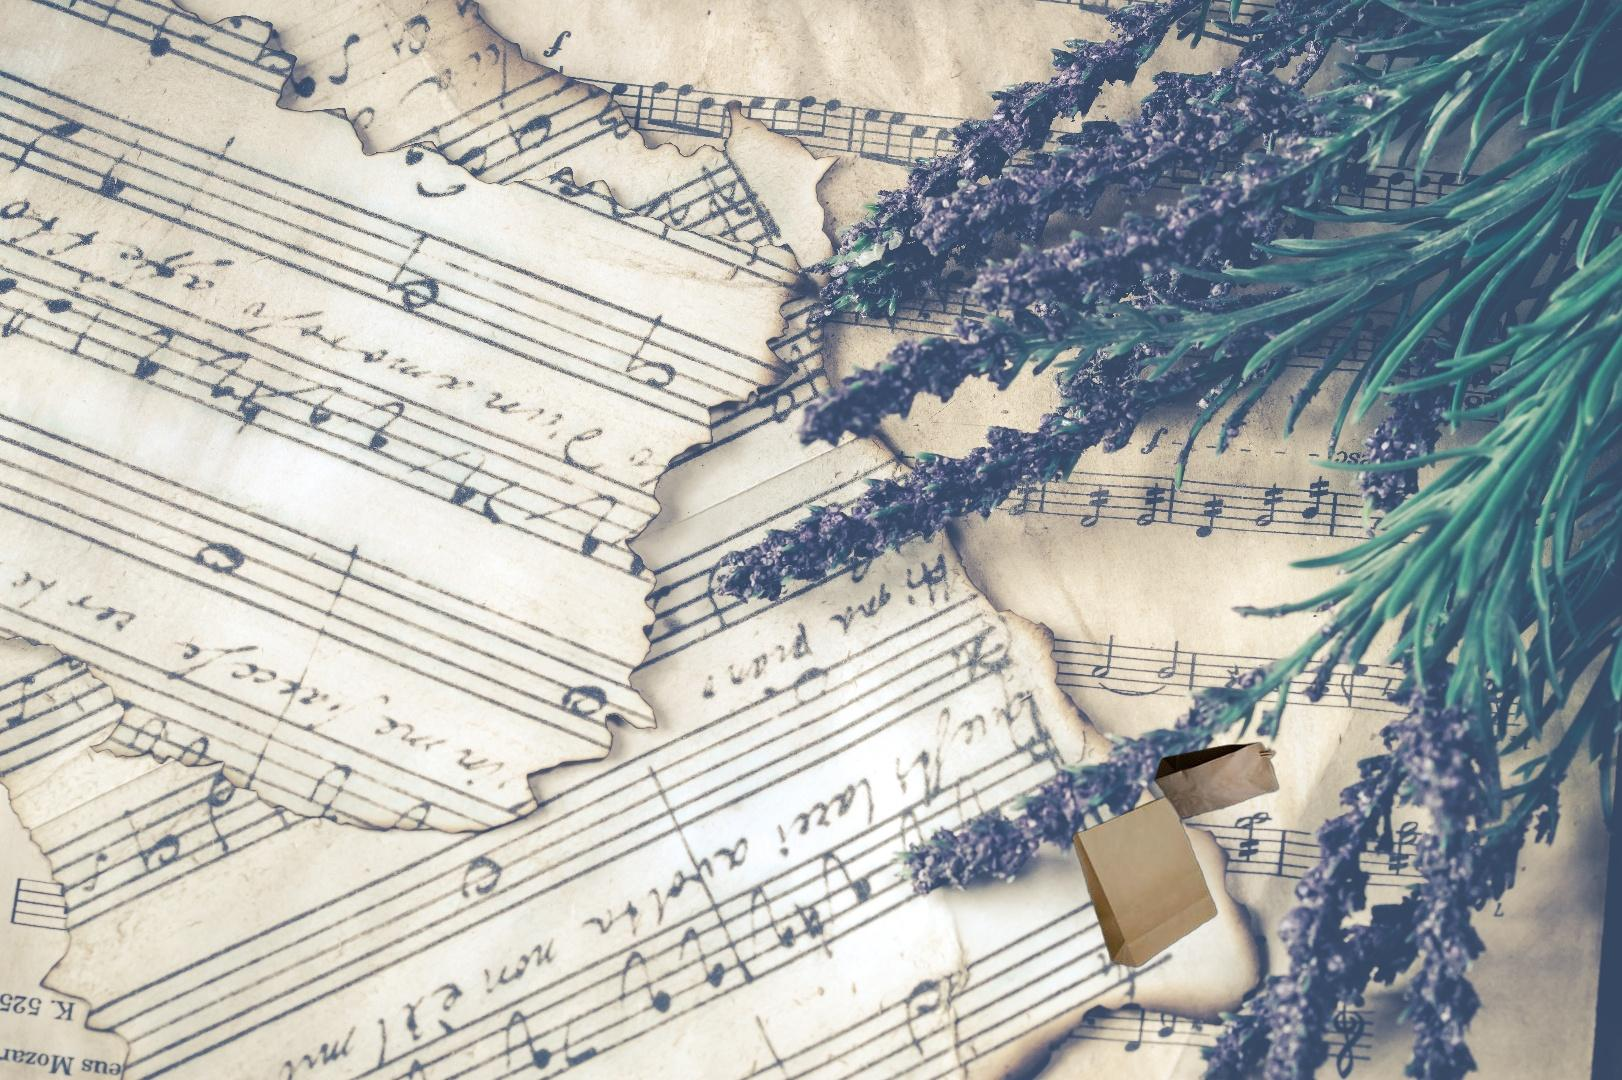paper-bag: (1069, 739, 1282, 972)
